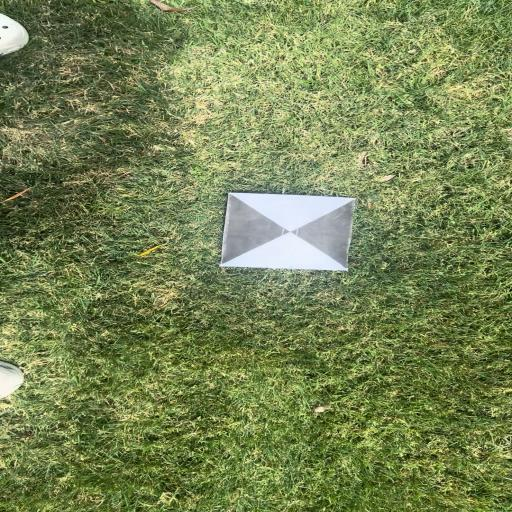target: (229, 194, 348, 270)
